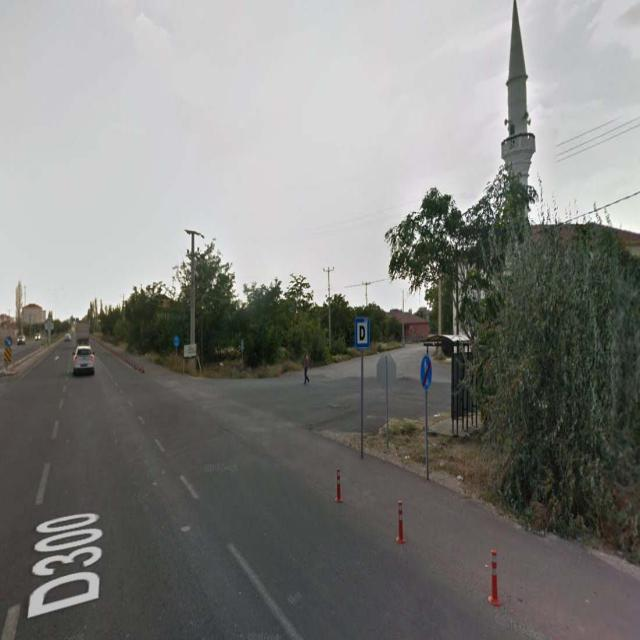durak: (355, 316, 369, 347)
